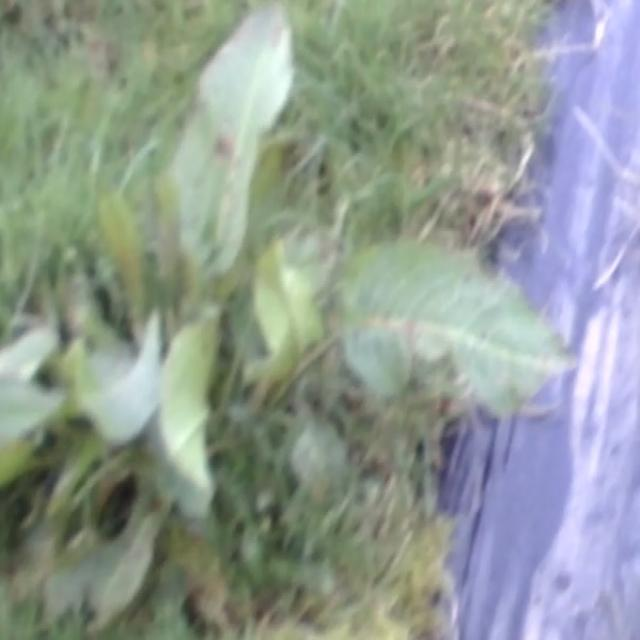organic waste: (0, 51, 528, 475)
